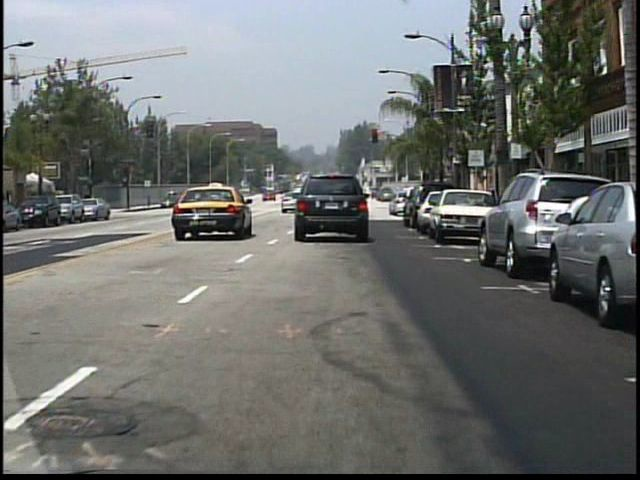person: (199, 188, 214, 213), (344, 189, 359, 213)
